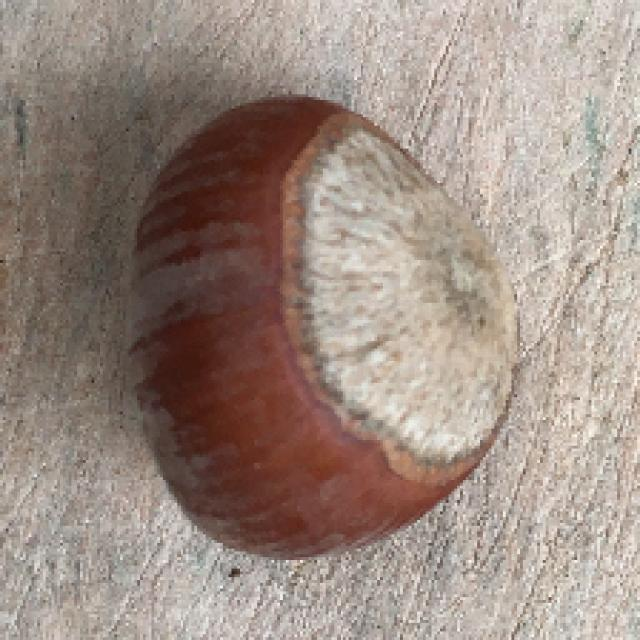qualityHazelnut: (116, 88, 528, 567)
